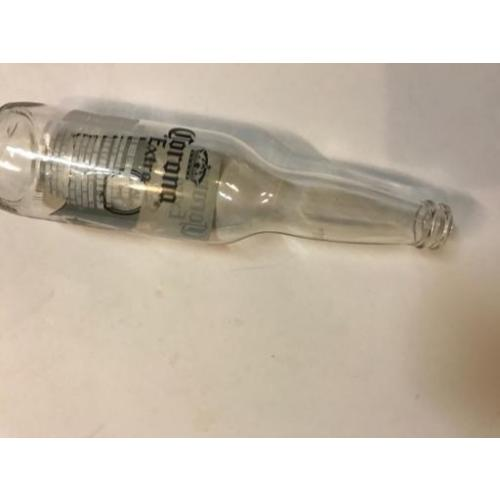glass: (6, 111, 451, 252)
